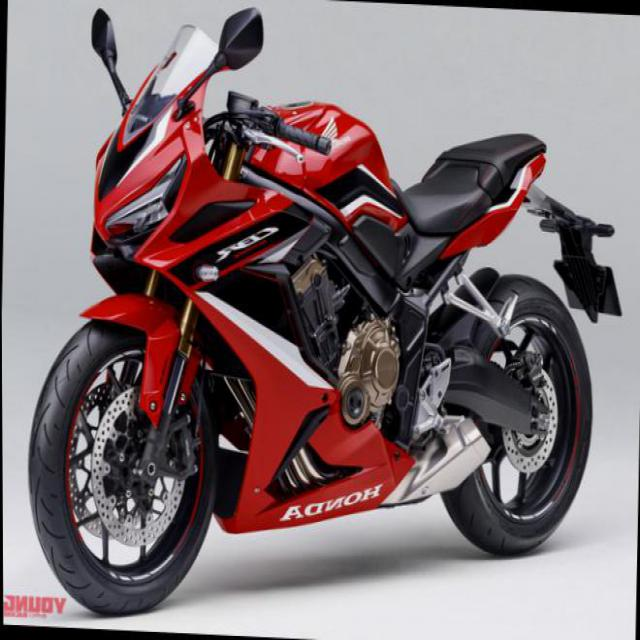CBR650R: (23, 0, 632, 639)
